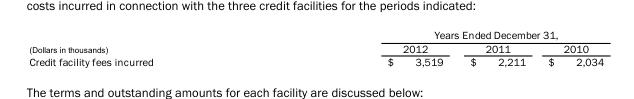table: (28, 28, 603, 67)
table column: (28, 28, 269, 67), (269, 28, 455, 67), (455, 28, 536, 67), (536, 28, 603, 67)
table column header: (28, 28, 603, 54)
table row: (28, 28, 603, 41), (28, 41, 603, 54), (28, 54, 603, 67)
table spanning cell: (28, 28, 269, 54), (269, 28, 603, 41)
